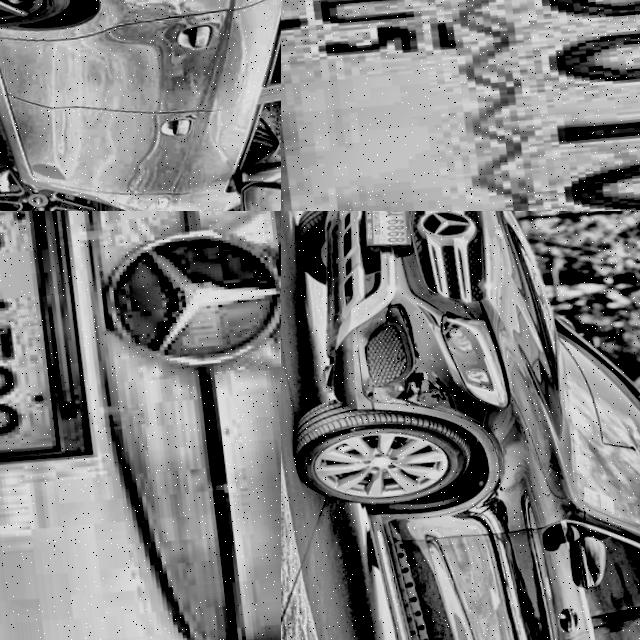license-plate: (281, 0, 640, 211), (0, 211, 80, 472), (362, 211, 415, 249)
